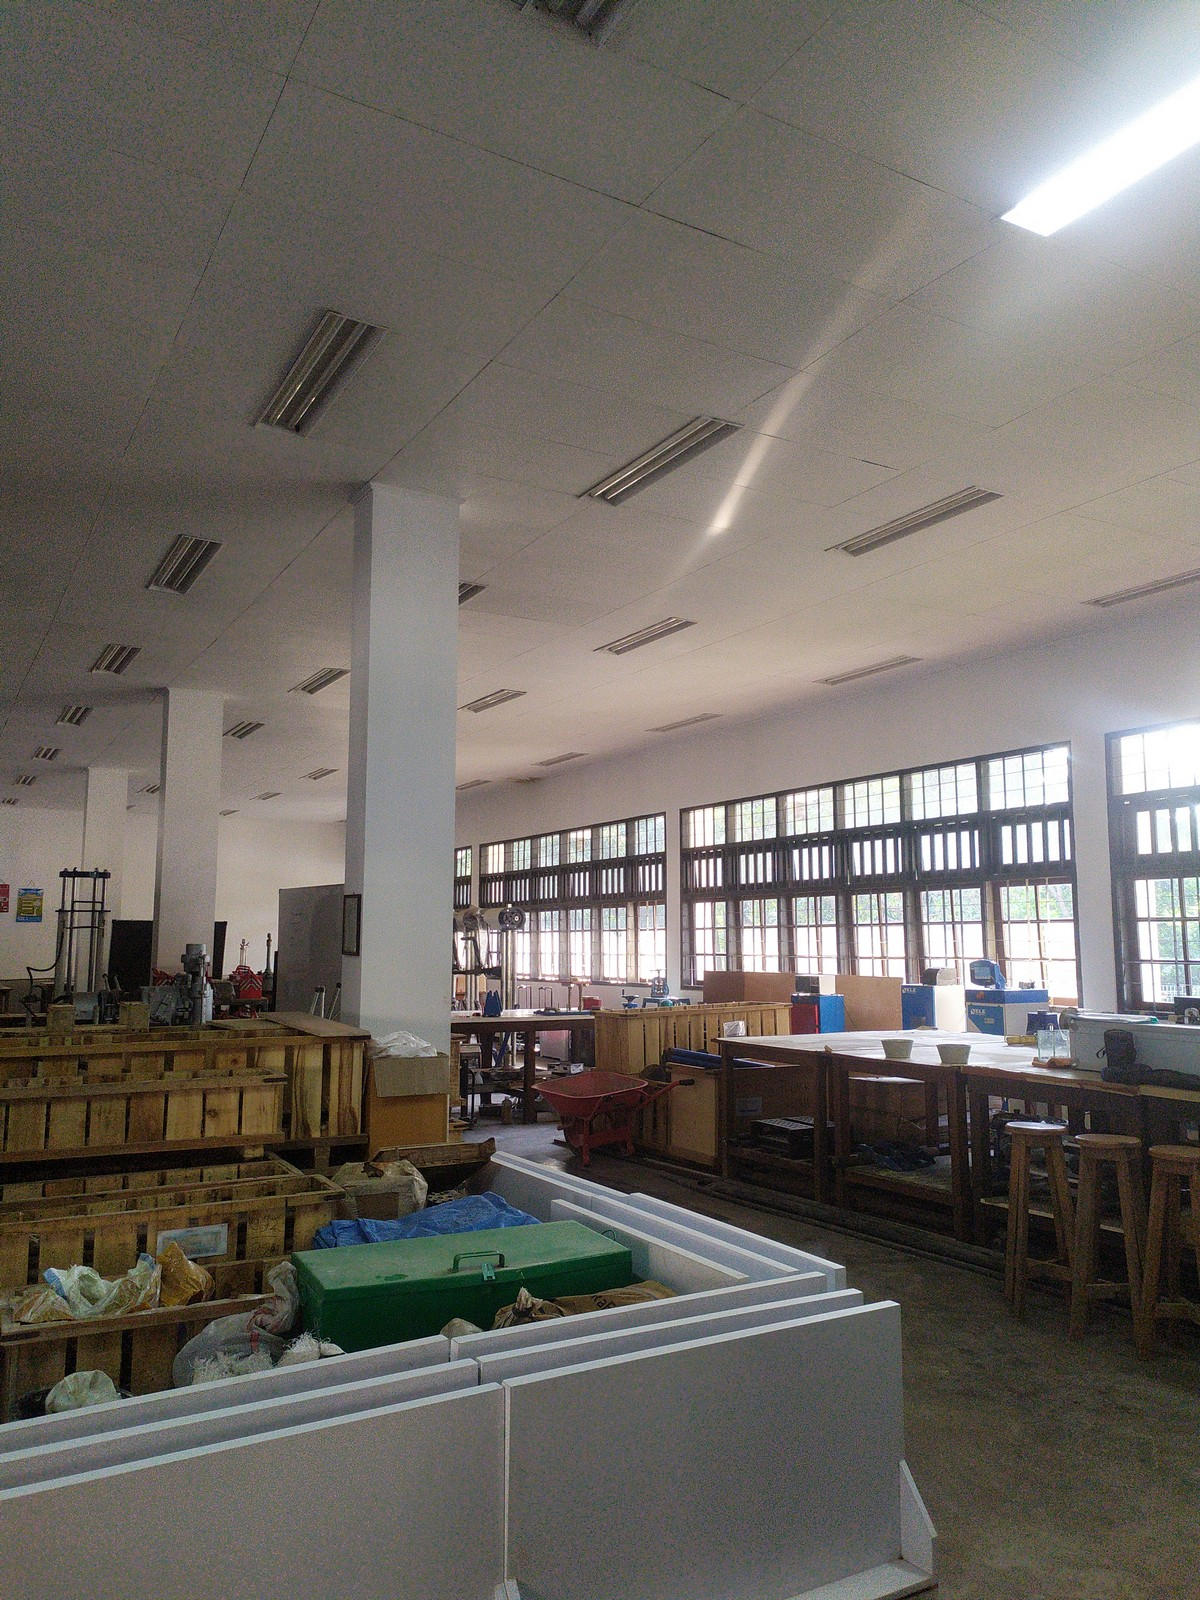concrete column: (339, 469, 466, 1054), (151, 677, 227, 991), (79, 757, 134, 965)
